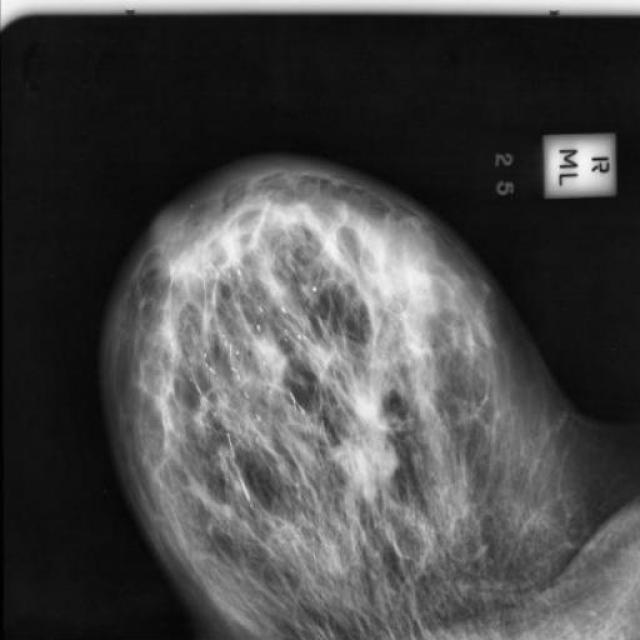cancer: (316, 187, 366, 246)
